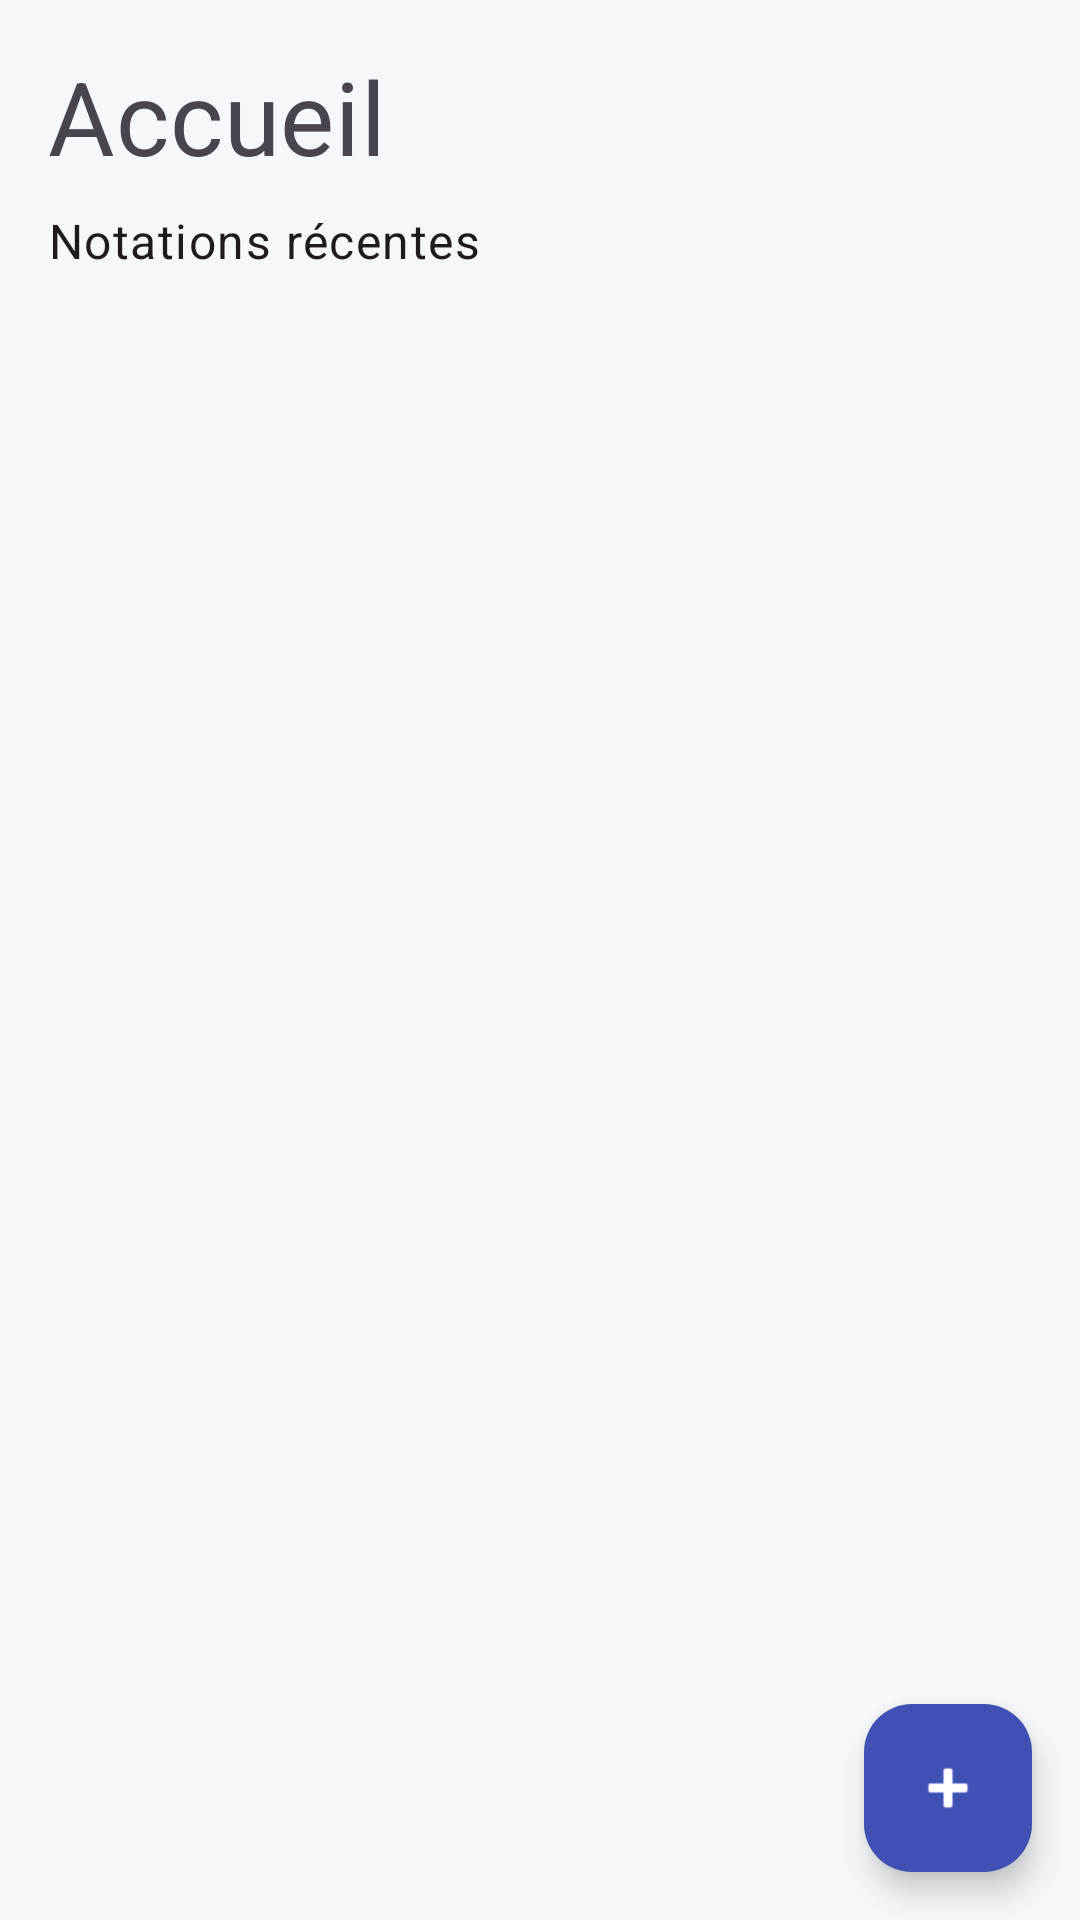

Icon click points for this 1080px×1920px phone screenshot, format (x=x, y=y):
Nouvelle notation: (x=948, y=1788)
